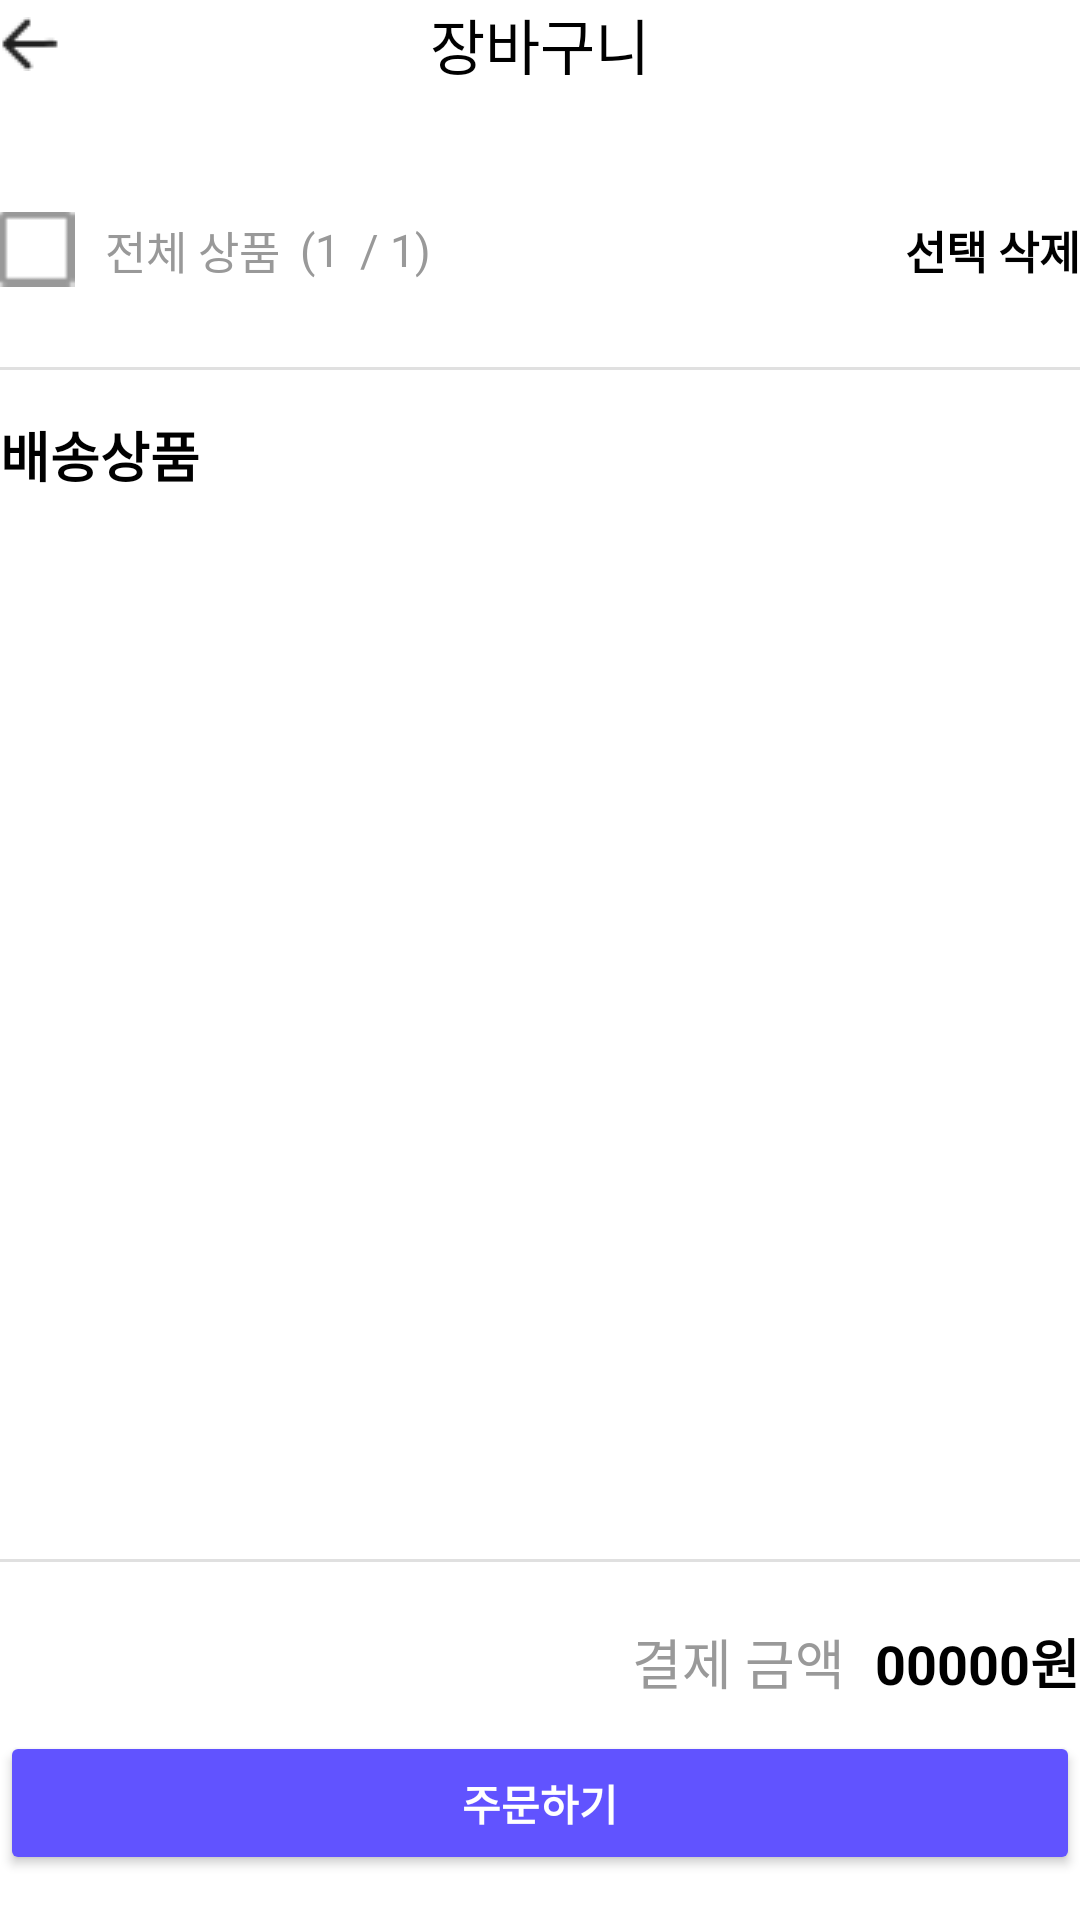

Point at icon controls on the screen. Image size 1080*1920, points as [x,y].
backward: [30,44]
